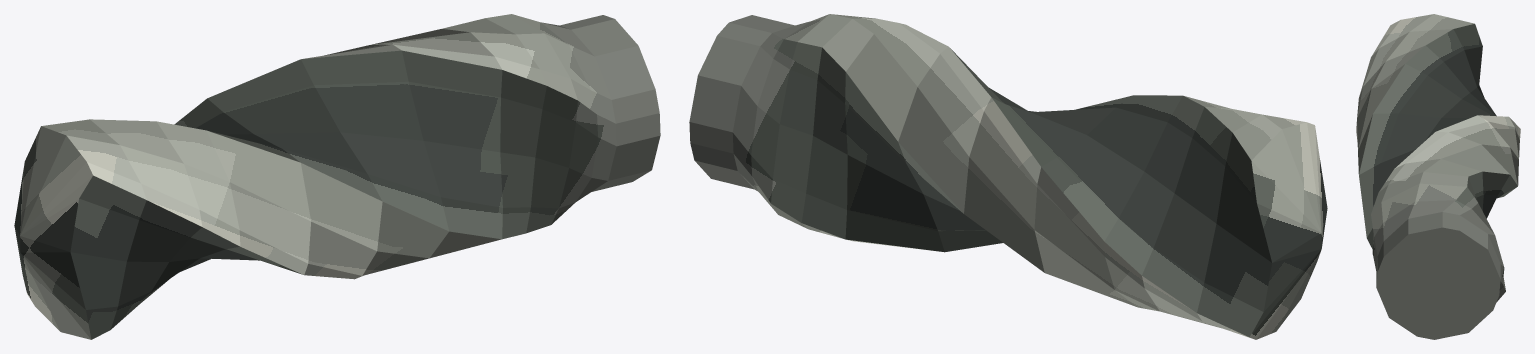
File: spiral.obj
3 views of the same model, side by side, from view 1: azimuth 30°, elevation 25°; view 2: azimuth 150°, elevation 25°; view 3: azimuth 270°, elevation 25° (orthographic). The views are drawn at different scales.
Parts seen in each view (by area): view 1: element_38; view 2: element_38; view 3: element_38.
Part boxes in pixels (<box>): element_38: <box>14,14,660,339</box>; element_38: <box>689,14,1327,339</box>; element_38: <box>1356,14,1520,339</box>.
Bounding box in the file's own units: 0.5444 × 0.1786 × 0.1787.
